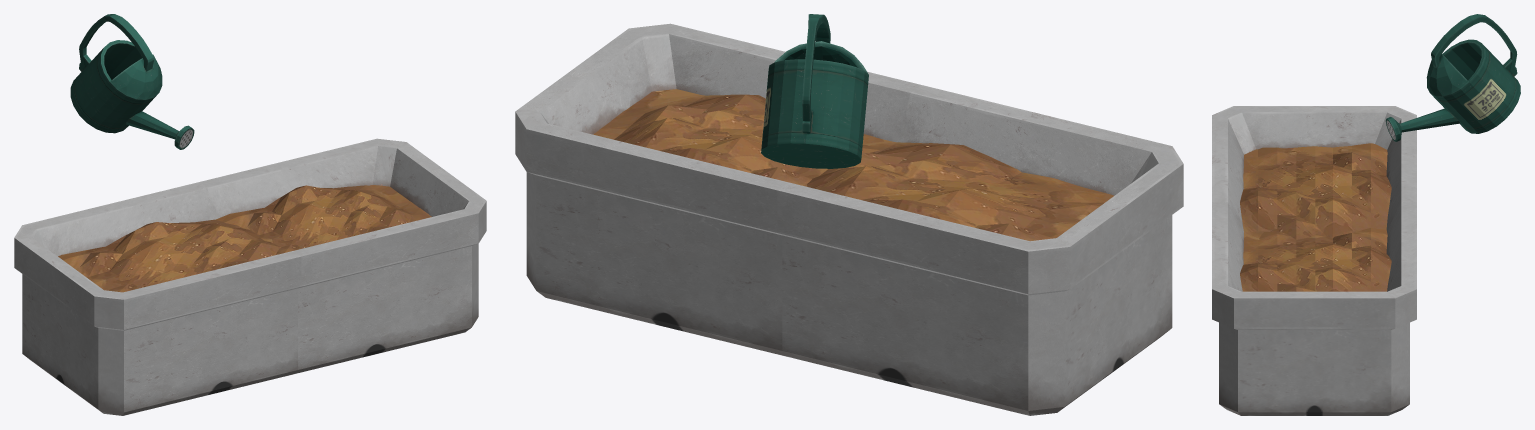
File: P_FlowerPot_006_S1_zhong.obj
3 renders of one model, left to right at view 1: azimuth 30°, elevation 25°; view 2: azimuth 150°, elevation 25°; view 3: azimuth 270°, elevation 25°, orthographic. The views are drawn at different scales.
Size of the model in its own units: 2 by 1.37 by 1.36.
4 materials, 4 textured.
